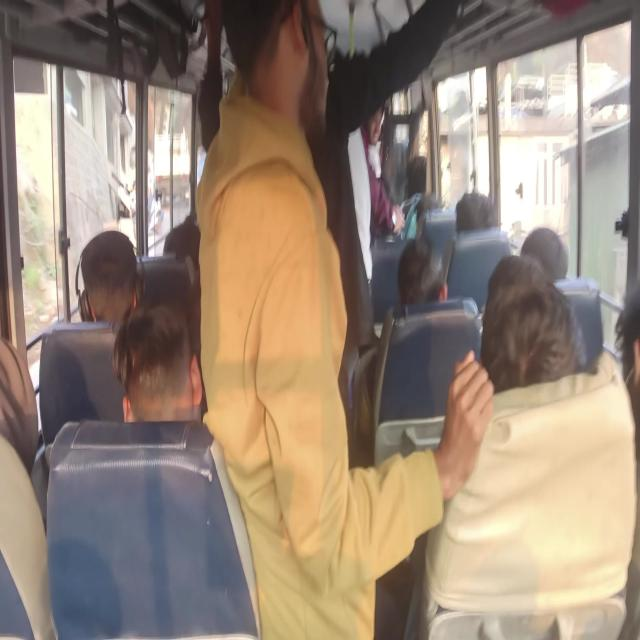person: (195, 1, 495, 638), (417, 251, 637, 638), (308, 0, 462, 458), (0, 336, 58, 638), (480, 254, 586, 394), (112, 301, 202, 423), (77, 229, 143, 332), (0, 336, 39, 476), (396, 235, 447, 307), (520, 225, 568, 282), (454, 191, 498, 233)
